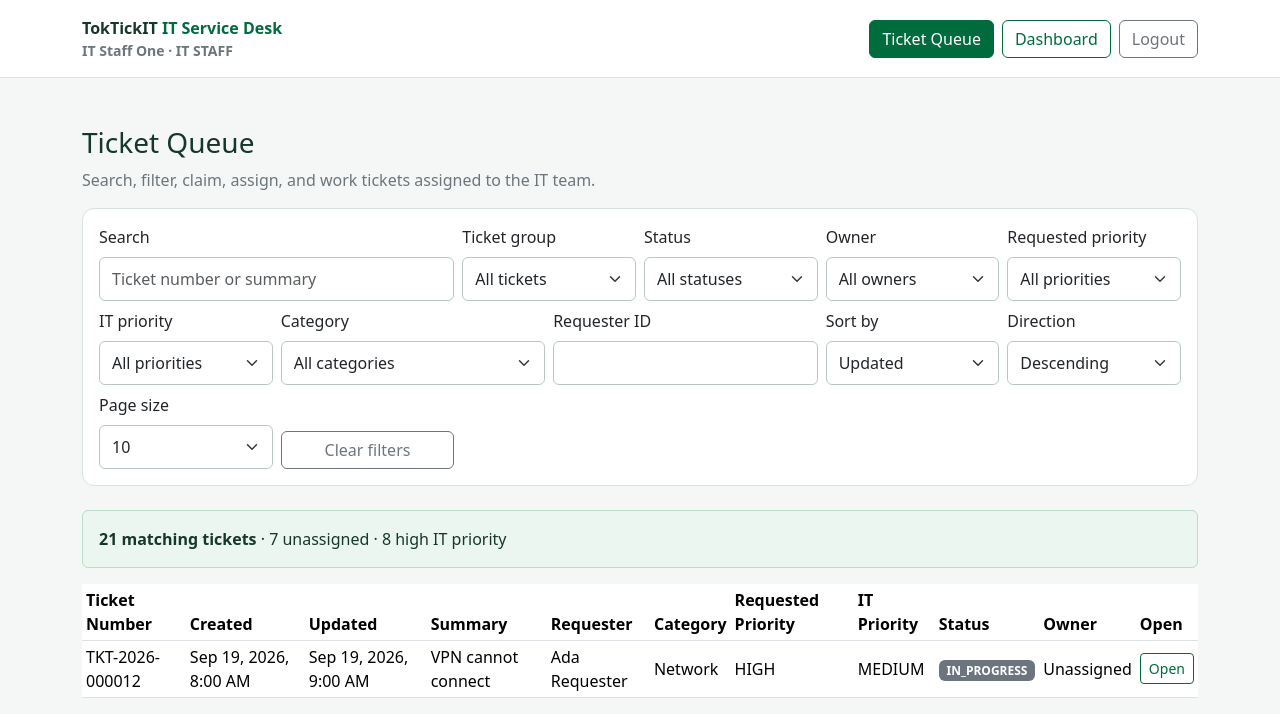
Test: Issue #38 IT Staff Ticket Queue UI › moves between pages and clears queue filters back to documented defaults
Click the button "Ticket Queue" at coordinates (932, 38), box x1=869 y1=20 x2=994 y2=58
(page scrolled)
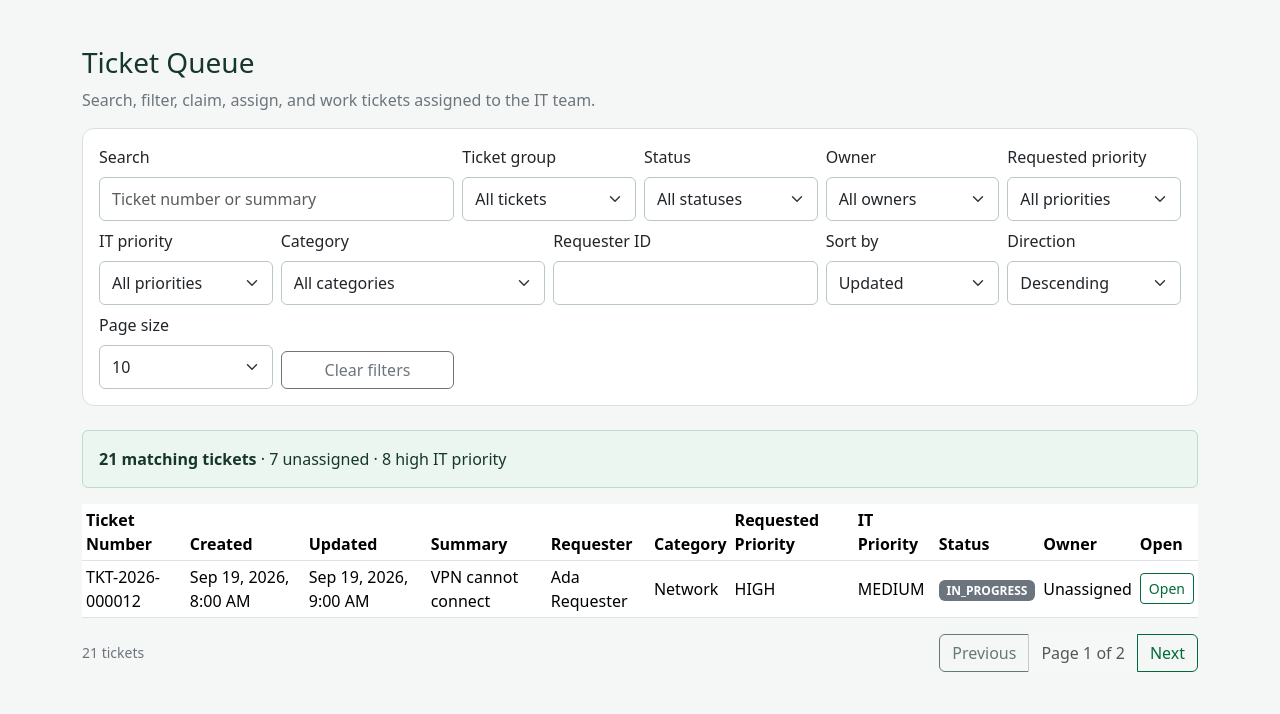
Click the button "Next" at coordinates (1167, 653), box x1=1137 y1=634 x2=1198 y2=672
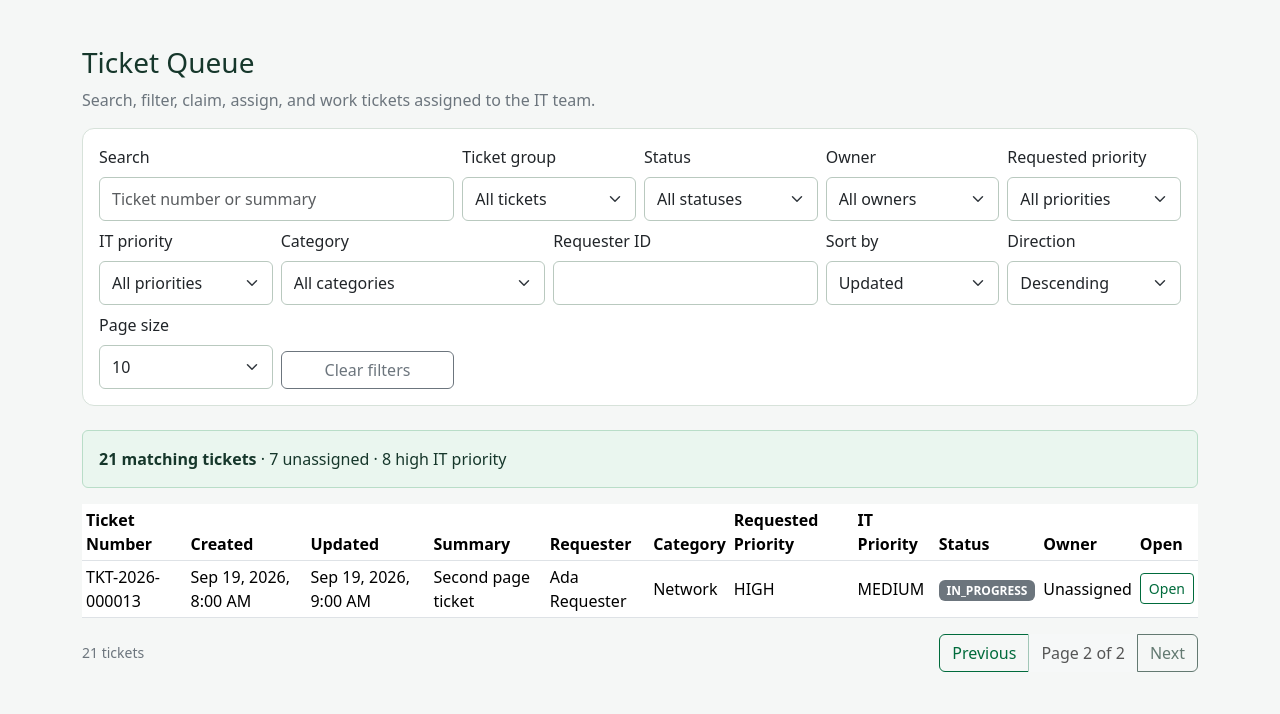
Check: the button "Page 2 of 2" is shown, box x1=1028 y1=634 x2=1138 y2=672
Click the button "Previous" at coordinates (984, 653), box x1=939 y1=634 x2=1029 y2=672
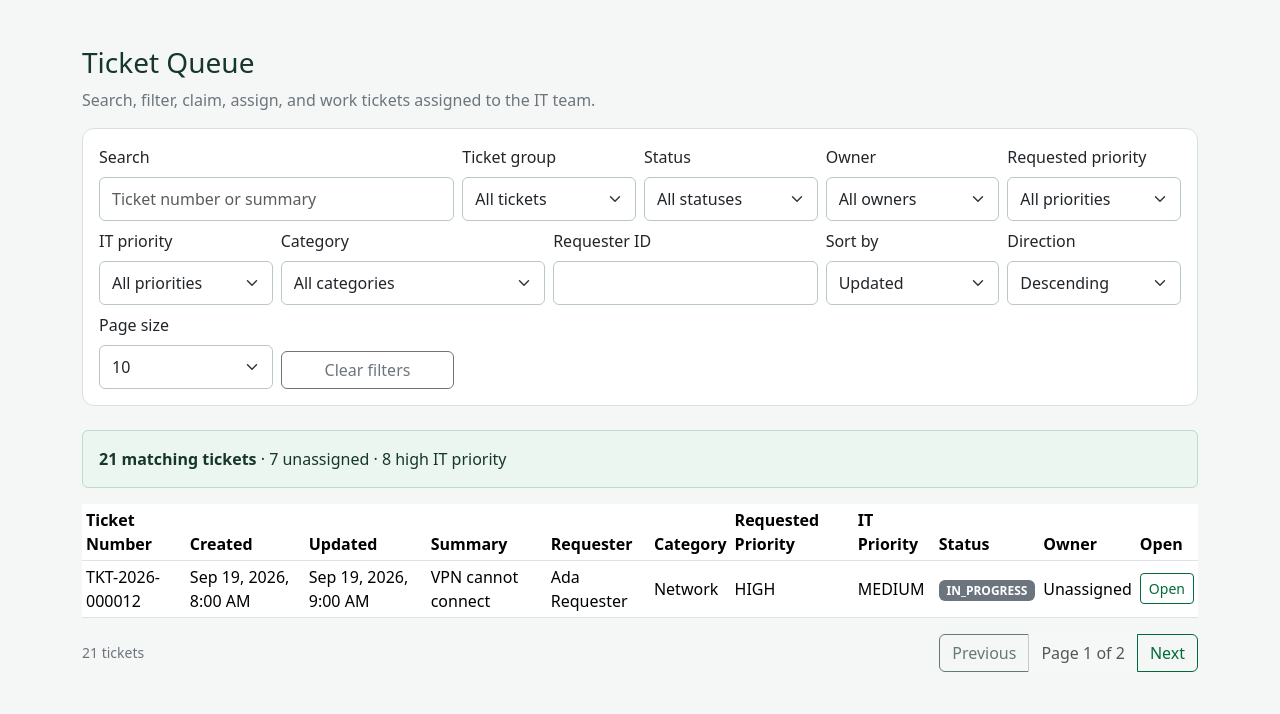
Check: the button "Page 1 of 2" is shown, box x1=1028 y1=634 x2=1138 y2=672
Type "VPN" into the field labelled "Search" at coordinates (277, 199), box x1=99 y1=177 x2=454 y2=221
Select "IN_PROGRESS" in the dropdown labelled "Status" at coordinates (731, 199), box x1=644 y1=177 x2=818 y2=221
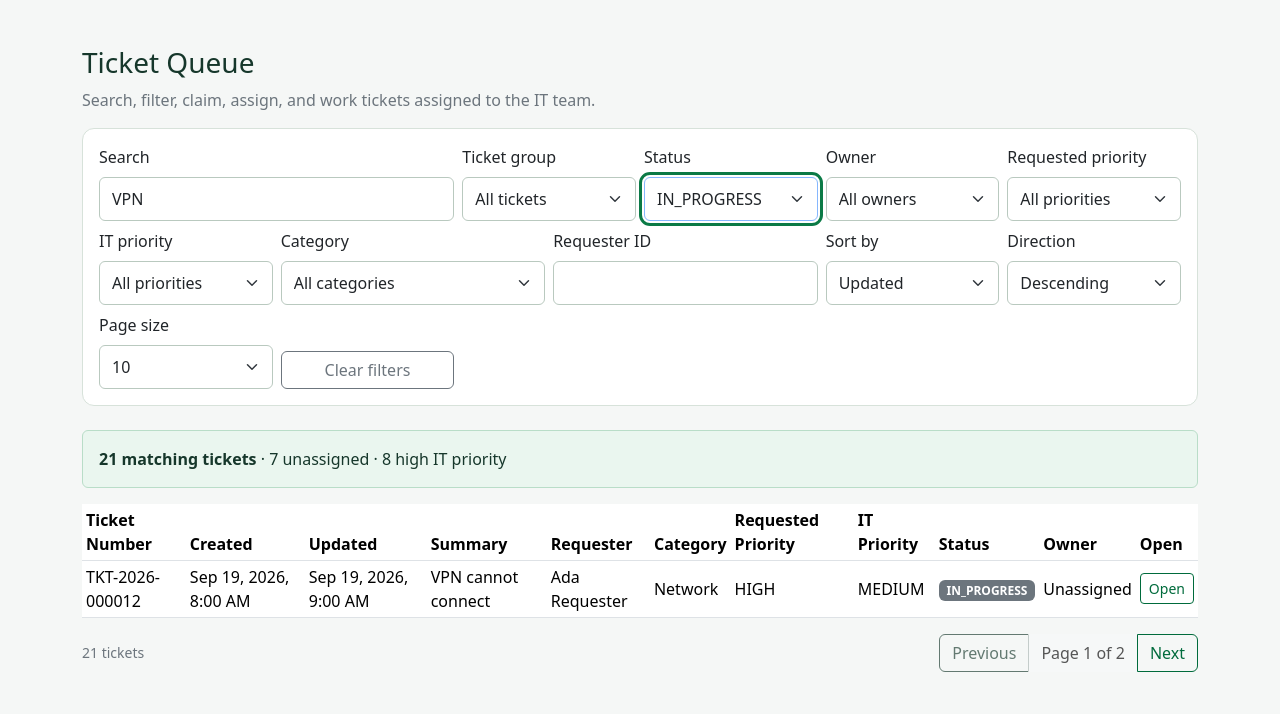
Select "20" in the dropdown labelled "Page size" at coordinates (186, 367), box x1=99 y1=345 x2=273 y2=389
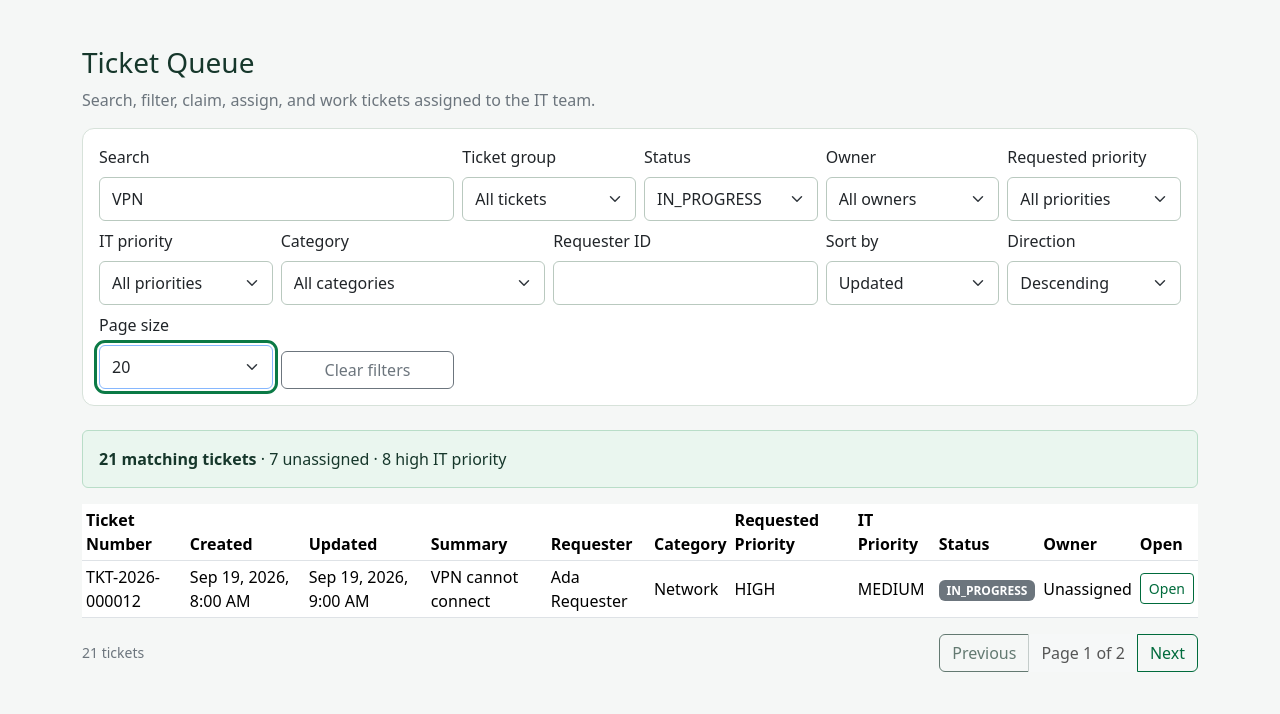
Click the button "Clear filters" at coordinates (368, 370), box x1=281 y1=351 x2=454 y2=389
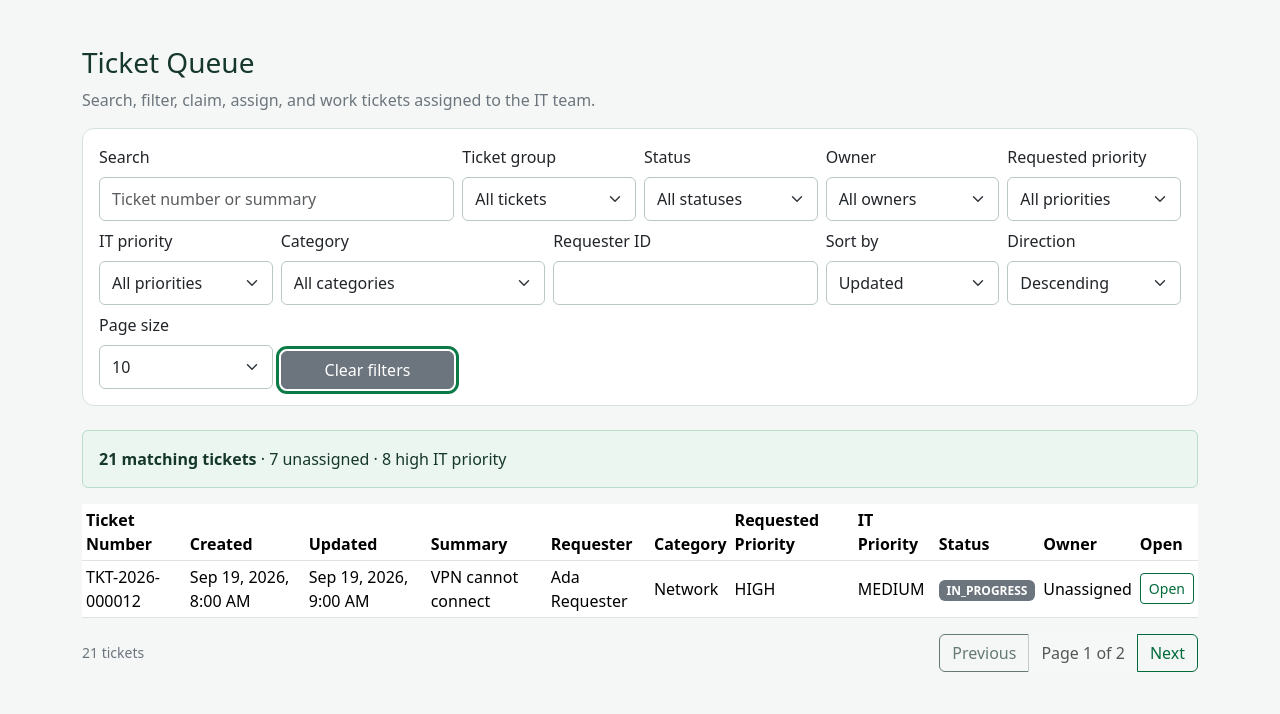
Check: the field labelled "Search" is empty, box x1=99 y1=177 x2=454 y2=221
